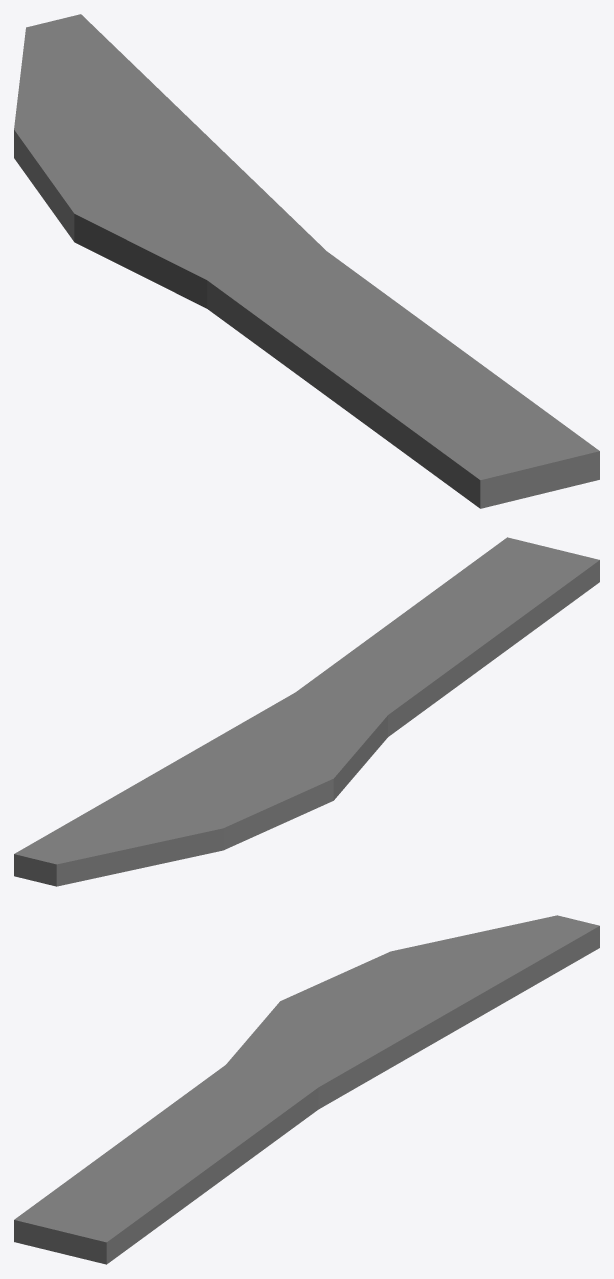
Rendered from veitsi.FBX.
The picture shows the model from 3 angles, top to bottom: view 1: azimuth 30°, elevation 25°; view 2: azimuth 150°, elevation 25°; view 3: azimuth 330°, elevation 25°; orthographic projection. The views are drawn at different scales.
Parts seen in each view (by area): view 1: veitsi; view 2: veitsi; view 3: veitsi.
Part boxes in pixels (x1,y1,x2,y2): veitsi: (14,14,599,508); veitsi: (14,537,599,886); veitsi: (14,915,599,1264).
Bounding box in the file's own units: 9.68 × 1.26 × 46.22.
